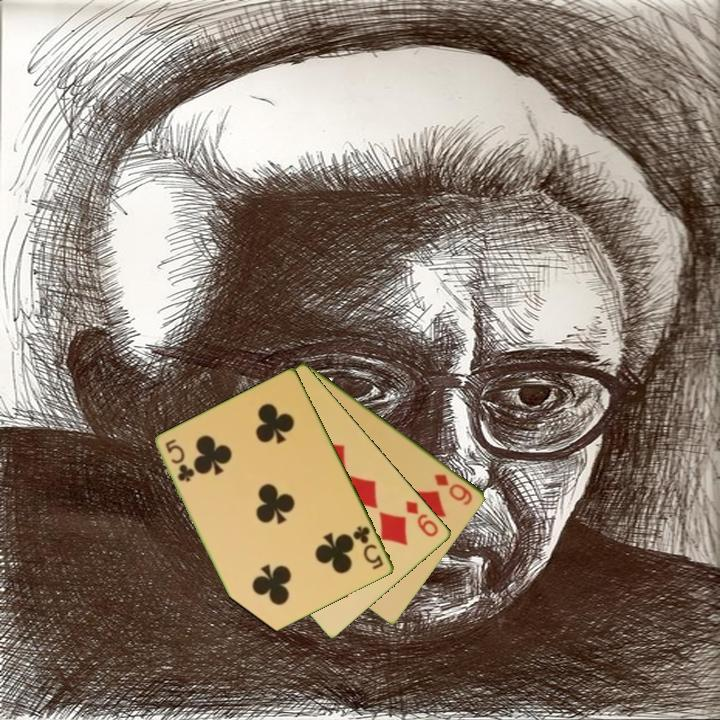5c: (350, 522, 387, 573), (162, 435, 197, 485)
6d: (431, 470, 476, 508)
9d: (402, 497, 442, 540)
